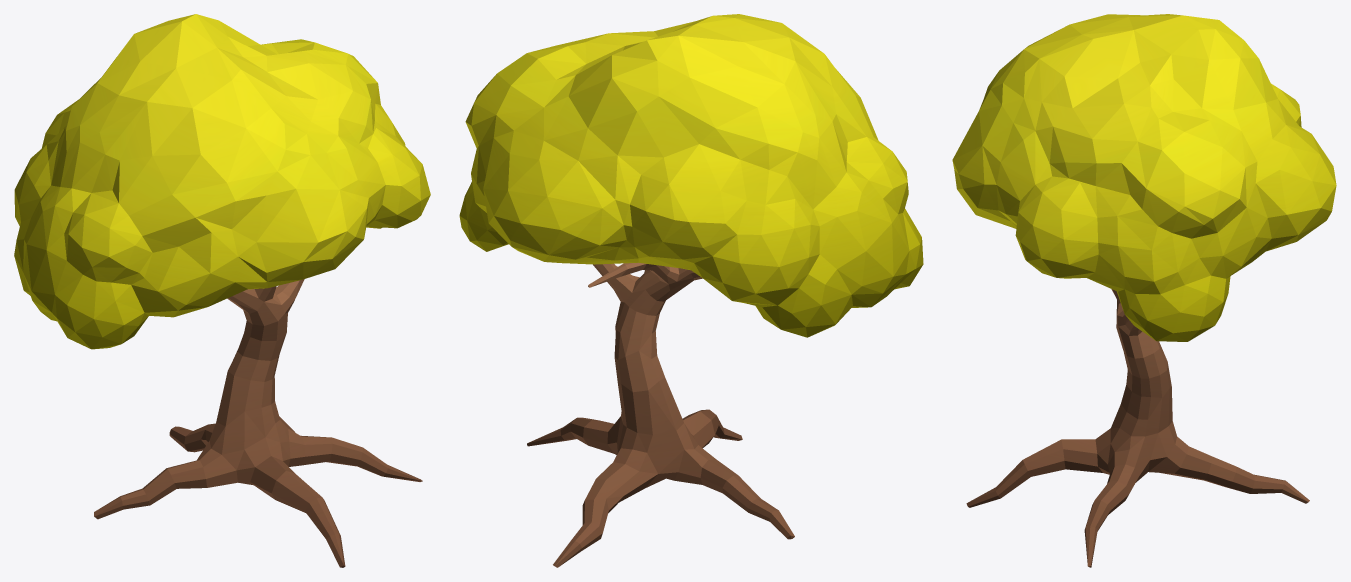
The model's file is Tree_common_Yellow_04.fbx.
The picture shows the model from 3 angles, left to right: view 1: azimuth 30°, elevation 25°; view 2: azimuth 150°, elevation 25°; view 3: azimuth 270°, elevation 25°; orthographic projection. The views are drawn at different scales.
Parts seen in each view (by area): view 1: Tree_common_Yellow_04; view 2: Tree_common_Yellow_04; view 3: Tree_common_Yellow_04.
Boxes of the visible parts, x1,y1,x2,y2 form: Tree_common_Yellow_04: (14, 14, 430, 567); Tree_common_Yellow_04: (459, 14, 923, 567); Tree_common_Yellow_04: (952, 14, 1336, 567).
Size of the model in its own units: 995 by 1187 by 883.
